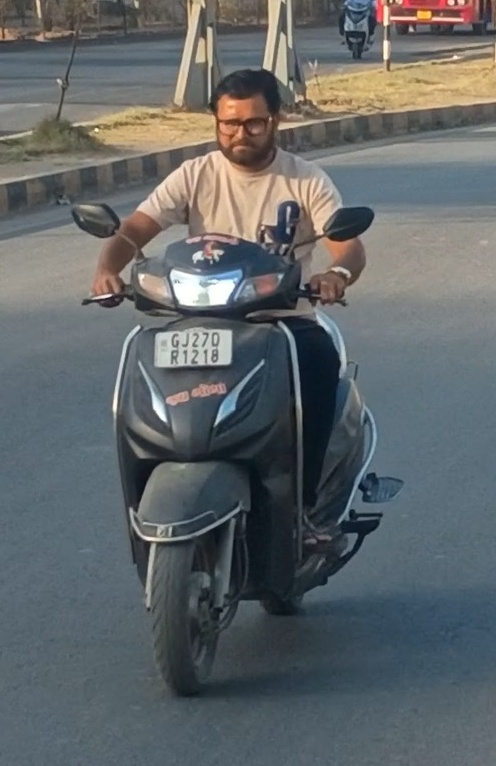BikeWithRider: (56, 60, 422, 711)
NoHelmet: (194, 68, 287, 168)
